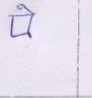o_matra: (23, 4, 36, 36)
